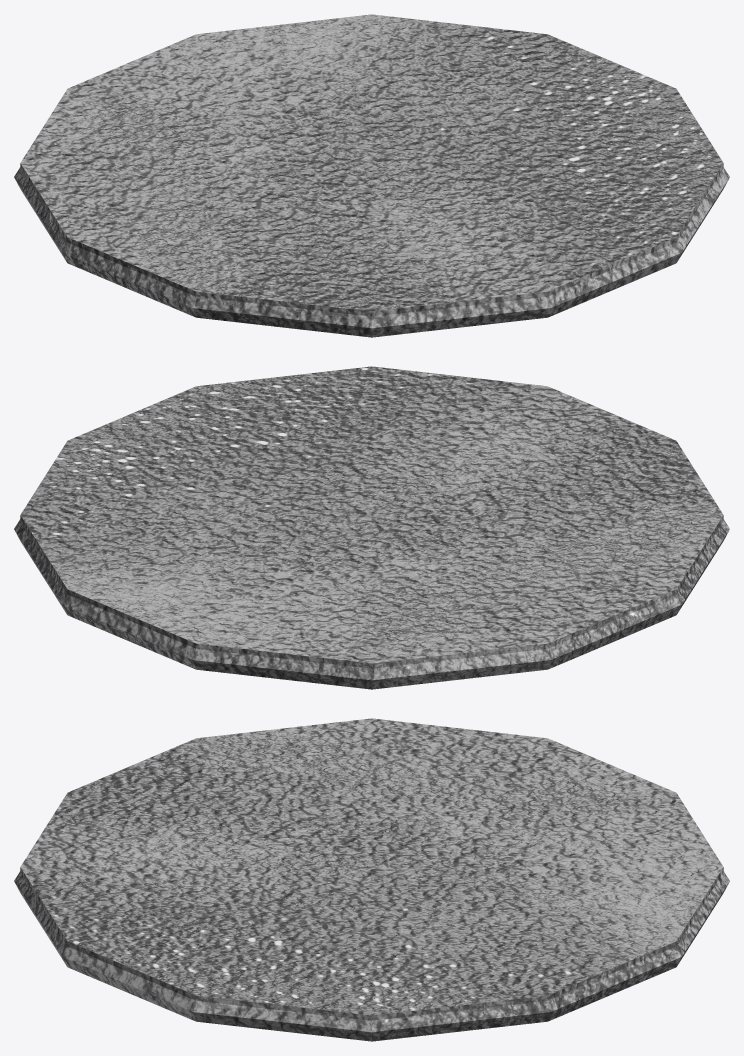
The model's file is Pressureplate.glb.
3 renders of one model, top to bottom at view 1: azimuth 30°, elevation 25°; view 2: azimuth 150°, elevation 25°; view 3: azimuth 270°, elevation 25°, orthographic.
Parts seen in each view (by area): view 1: Pressureplate; view 2: Pressureplate; view 3: Pressureplate.
Part boxes in pixels (x1,y1,x2,y2): Pressureplate: [14, 14, 729, 337]; Pressureplate: [14, 366, 729, 689]; Pressureplate: [14, 718, 729, 1041].
Size of the model in its own units: 1.9 by 0.0761 by 1.9.
Materials: 1 (1 with a texture image).
